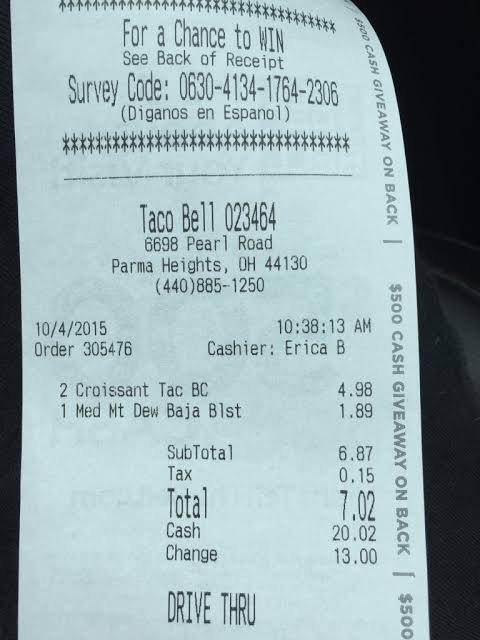Taco Bell: (136, 197, 219, 236)
